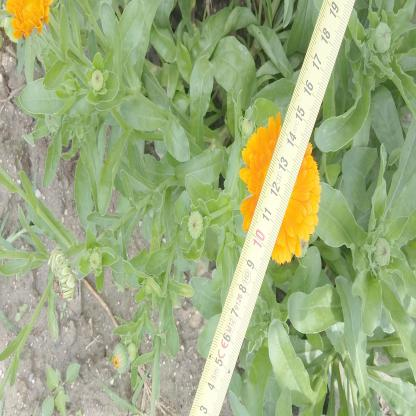marigold: (244, 126, 319, 263)
